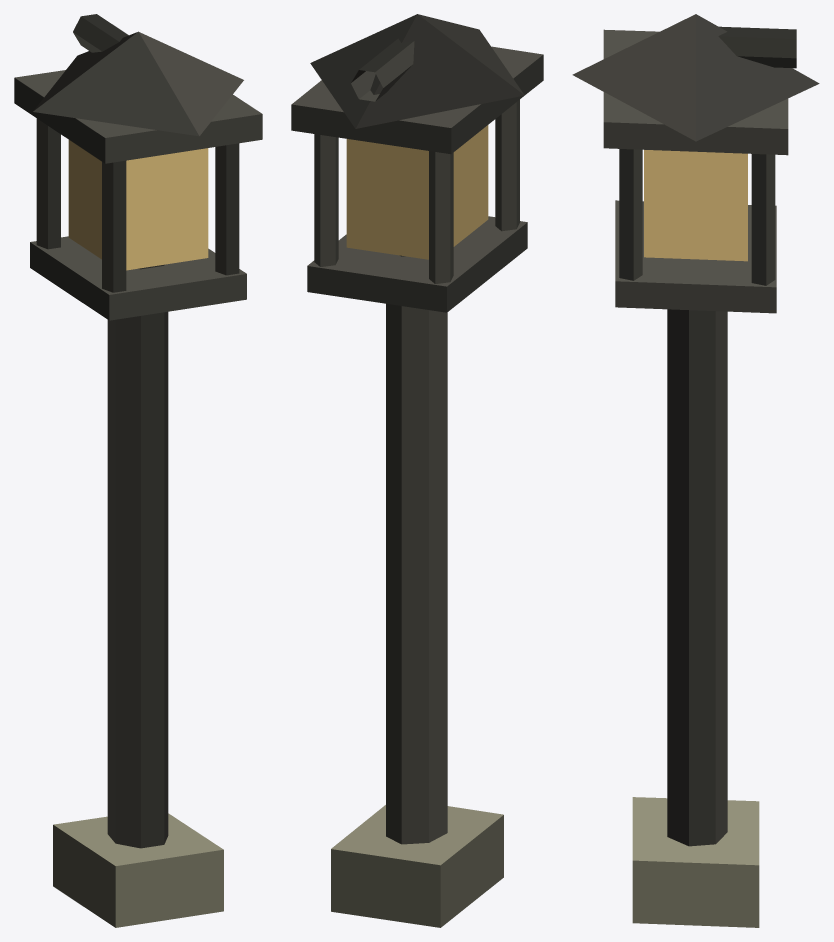
3 views of the same model, side by side, from view 1: azimuth 30°, elevation 25°; view 2: azimuth 150°, elevation 25°; view 3: azimuth 270°, elevation 25° (orthographic).
Parts seen in each view (by area): view 1: 7f44a673fef7f80bd10f59d91eb410d5b453d6ddb742a585fc6dd1f94524; view 2: 7f44a673fef7f80bd10f59d91eb410d5b453d6ddb742a585fc6dd1f94524; view 3: 7f44a673fef7f80bd10f59d91eb410d5b453d6ddb742a585fc6dd1f94524.
Boxes of the visible parts, <box> form: 7f44a673fef7f80bd10f59d91eb410d5b453d6ddb742a585fc6dd1f94524: <box>14,14,262,927</box>; 7f44a673fef7f80bd10f59d91eb410d5b453d6ddb742a585fc6dd1f94524: <box>291,14,543,927</box>; 7f44a673fef7f80bd10f59d91eb410d5b453d6ddb742a585fc6dd1f94524: <box>572,14,819,927</box>.
Size of the model in its own units: 0.86 by 3.4 by 0.86.
Materials: 2 (1 with a texture image).
